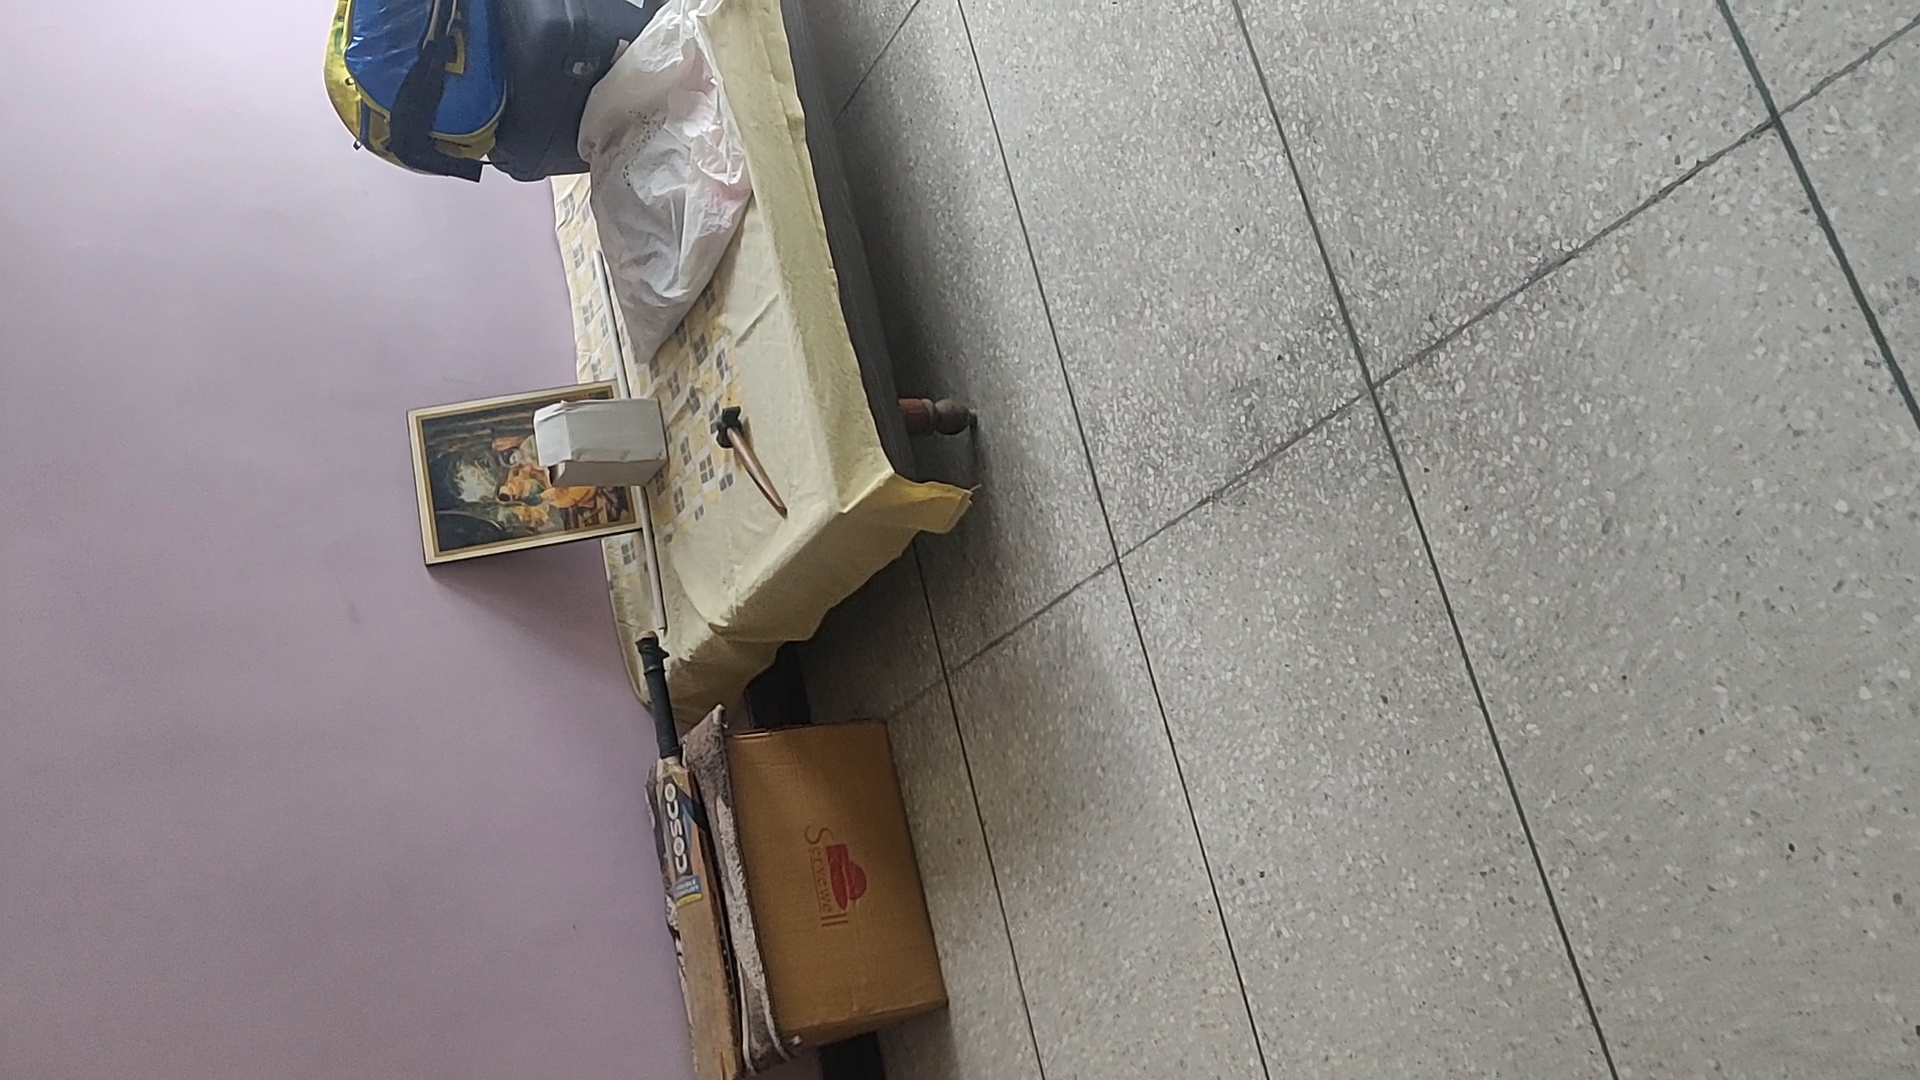hammer: (712, 405, 789, 518)
